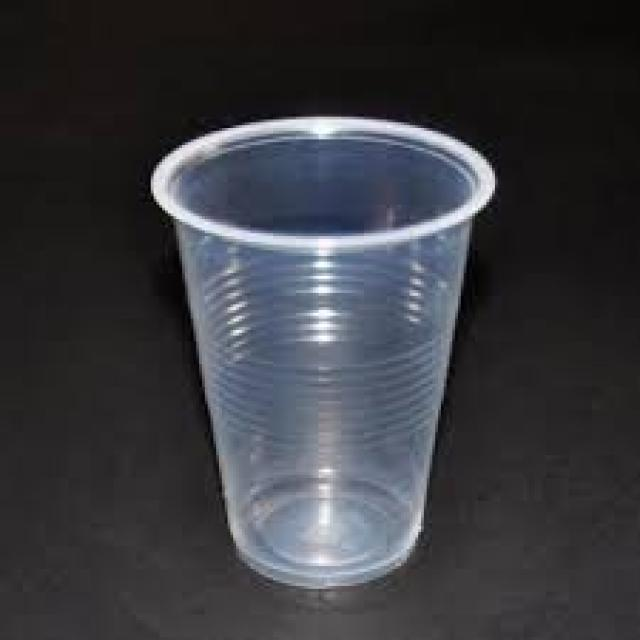plastic: (151, 116, 495, 587)
